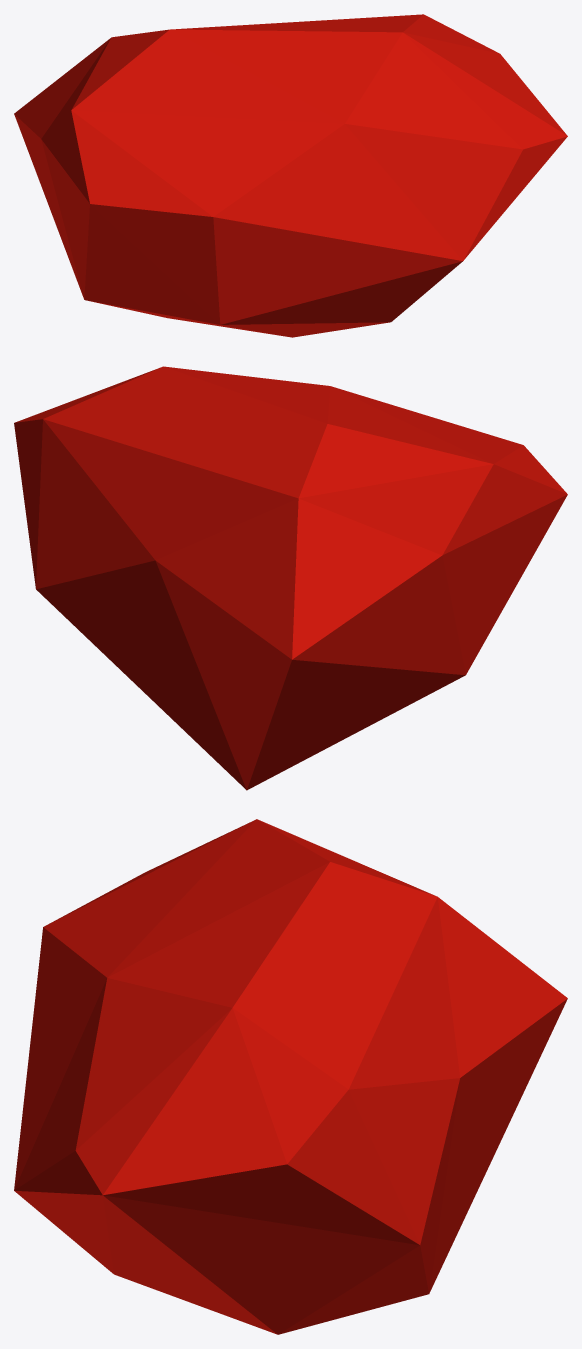
Rendered from p4-orange.obj.
3 views of the same model, one above another, from view 1: azimuth 30°, elevation 25°; view 2: azimuth 150°, elevation 25°; view 3: azimuth 270°, elevation 25° (orthographic). The views are drawn at different scales.
Visible parts, largest first — view 1: p4-orange_Icosphere.035; view 2: p4-orange_Icosphere.035; view 3: p4-orange_Icosphere.035.
Part boxes in pixels (left/top/right/bottom): p4-orange_Icosphere.035: left=14, top=14, right=567, bottom=337; p4-orange_Icosphere.035: left=14, top=366, right=567, bottom=790; p4-orange_Icosphere.035: left=14, top=819, right=567, bottom=1334.
Size of the model in its own units: 3.18 by 2.12 by 2.6.
